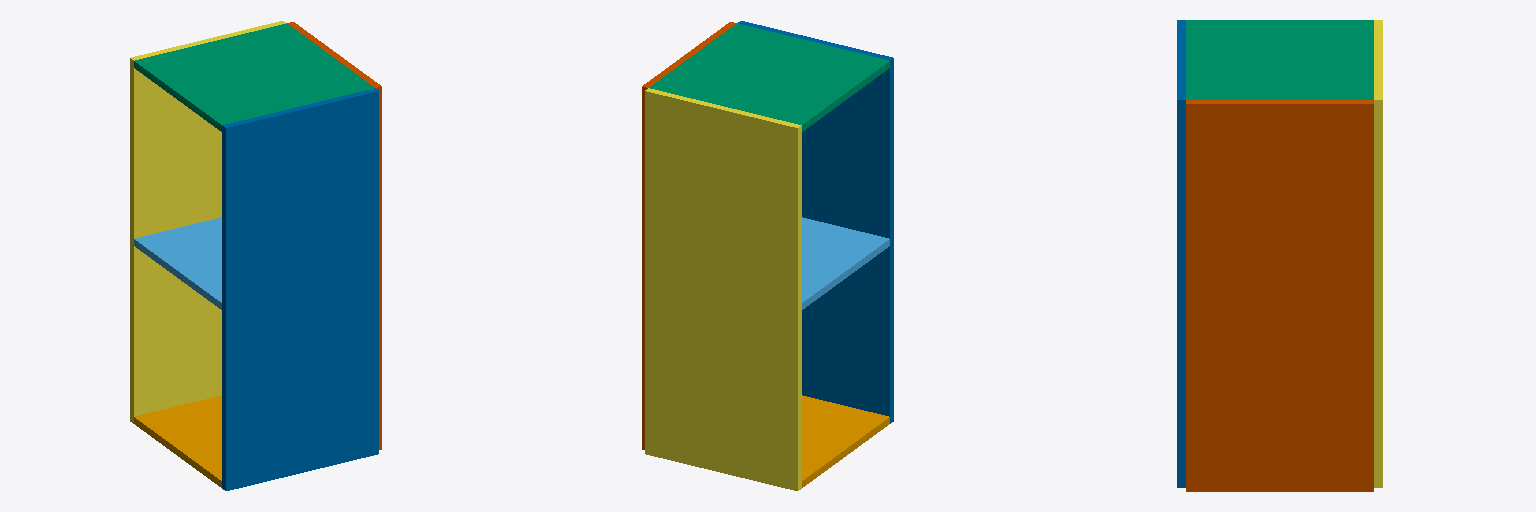
URDF robot description (cabinet_model):
<robot name="cabinet_model">
  <link name="cabinet_bottom_plate">
    <inertial>
      <mass value="20.0" />
      <origin xyz="0 0 -1.0" /> 
      <inertia  ixx="2" ixy="0.0"  ixz="0.0"  iyy="2"  iyz="0.0"  izz="2" />
    </inertial>
    <visual>
      <origin xyz="0 0 0.01" rpy="0 0 0" />
      <geometry>
        <box size="0.45 0.45 0.02"/>
      </geometry>
    </visual>
    <collision>
      <origin xyz="0 0 0.01" rpy="0 0 0" />
      <geometry>
        <box size="0.45 0.45 0.02"/>
      </geometry>
    </collision>
  </link>
  <link name="cabinet_middle_plate">
    <inertial>
      <mass value="1.0" />
      <origin xyz="0 0 0.0" /> 
      <inertia  ixx="0.01" ixy="0.0"  ixz="0.0"  iyy="0.01"  iyz="0.0"  izz="0.01" />
    </inertial>
    <visual>
      <origin xyz="0 0 0.51" rpy="0 0 0" />
      <geometry>
        <box size="0.45 0.45 0.02"/>
      </geometry>
    </visual>
    <collision>
      <origin xyz="0 0 0.51" rpy="0 0 0" />
      <geometry>
        <box size="0.45 0.45 0.02"/>
      </geometry>
    </collision>
  </link>
  <link name="cabinet_top_plate">
    <inertial>
      <mass value="1.0" />
      <origin xyz="0 0 0.0" /> 
      <inertia  ixx="0.01" ixy="0.0"  ixz="0.0"  iyy="0.01"  iyz="0.0"  izz="0.01" />
    </inertial>
    <visual>
      <origin xyz="0 0 1.01" rpy="0 0 0" />
      <geometry>
        <box size="0.45 0.45 0.02"/>
      </geometry>
    </visual>
    <collision>
      <origin xyz="0 0 1.01" rpy="0 0 0" />
      <geometry>
        <box size="0.45 0.45 0.02"/>
      </geometry>
    </collision>
  </link>
  <link name="cabinet_left_plate">
    <inertial>
      <mass value="1.0" />
      <origin xyz="0 0 0.0" /> 
      <inertia  ixx="0.01" ixy="0.0"  ixz="0.0"  iyy="0.01"  iyz="0.0"  izz="0.01" />
    </inertial>
    <visual>
      <origin xyz="0 0.235 0.51" rpy="0 0 0" />
      <geometry>
        <box size="0.45 0.02 1.02"/>
      </geometry>
    </visual>
    <collision>
      <origin xyz="0 0.235 0.51" rpy="0 0 0" />
      <geometry>
        <box size="0.45 0.02 1.02"/>
      </geometry>
    </collision>
  </link>
  <link name="cabinet_right_plate">
    <inertial>
      <mass value="1.0" />
      <origin xyz="0 0 0.0" /> 
      <inertia  ixx="0.01" ixy="0.0"  ixz="0.0"  iyy="0.01"  iyz="0.0"  izz="0.01" />
    </inertial>
    <visual>
      <origin xyz="0 -0.235 0.51" rpy="0 0 0" />
      <geometry>
        <box size="0.45 0.02 1.02"/>
      </geometry>
    </visual>
    <collision>
      <origin xyz="0 -0.235 0.51" rpy="0 0 0" />
      <geometry>
        <box size="0.45 0.02 1.02"/>
      </geometry>
    </collision>
  </link>
  <link name="cabinet_back_plate">
    <inertial>
      <mass value="1.0" />
      <origin xyz="0 0 -5" /> 
      <inertia  ixx="0.01" ixy="0.0"  ixz="0.0"  iyy="0.01"  iyz="0.0"  izz="0.01" />
    </inertial>
    <visual>
      <origin xyz="0.235 0 0.51" rpy="0 0 0" />
      <geometry>
        <box size="0.02 0.45 1.02"/>
      </geometry>
    </visual>
    <collision>
      <origin xyz="0.235 0 0.51" rpy="0 0 0" />
      <geometry>
        <box size="0.02 0.45 1.02"/>
      </geometry>
    </collision>
  </link>
  <joint name="middle_plate" type="fixed">
    <parent link="cabinet_bottom_plate"/>
    <child link="cabinet_middle_plate"/>
    <origin xyz="0 0 0"/>
  </joint>
  <joint name="top_plate" type="fixed">
    <parent link="cabinet_bottom_plate"/>
    <child link="cabinet_top_plate"/>
    <origin xyz="0 0 0"/>
  </joint>
  <joint name="left_plate" type="fixed">
    <parent link="cabinet_bottom_plate"/>
    <child link="cabinet_left_plate"/>
    <origin xyz="0 0 0"/>
  </joint>
  <joint name="right_plate" type="fixed">
    <parent link="cabinet_bottom_plate"/>
    <child link="cabinet_right_plate"/>
    <origin xyz="0 0 0"/>
  </joint>
  <joint name="back_plate" type="fixed">
    <parent link="cabinet_bottom_plate"/>
    <child link="cabinet_back_plate"/>
    <origin xyz="0 0 0"/>
  </joint>
  <gazebo reference="cabinet_bottom_plate">
    <mu1>100.0</mu1>
    <mu2>100.0</mu2>
  </gazebo>
  <gazebo>
    <static>true</static>
  </gazebo>
</robot>

--- Render facts (derived) ---
3 views of the same robot in one strip: view 1: azimuth 30°, elevation 25°; view 2: azimuth 150°, elevation 25°; view 3: azimuth 270°, elevation 25° (orthographic).
Robot: cabinet_model — 6 links, 5 joints (5 fixed); root link cabinet_bottom_plate; default pose: every joint at zero.
Links seen in each view (by area): view 1: cabinet_right_plate, cabinet_left_plate, cabinet_top_plate, cabinet_middle_plate, cabinet_bottom_plate, cabinet_back_plate; view 2: cabinet_left_plate, cabinet_right_plate, cabinet_top_plate, cabinet_middle_plate, cabinet_bottom_plate, cabinet_back_plate; view 3: cabinet_back_plate, cabinet_top_plate, cabinet_left_plate, cabinet_right_plate.
Boxes of the visible links, bbox=[...] form: cabinet_right_plate: bbox=[222, 88, 378, 490]; cabinet_left_plate: bbox=[130, 21, 285, 423]; cabinet_top_plate: bbox=[134, 23, 374, 131]; cabinet_middle_plate: bbox=[134, 217, 221, 309]; cabinet_bottom_plate: bbox=[134, 395, 221, 487]; cabinet_back_plate: bbox=[287, 22, 381, 449]; cabinet_left_plate: bbox=[645, 88, 801, 490]; cabinet_right_plate: bbox=[738, 21, 893, 423]; cabinet_top_plate: bbox=[649, 23, 889, 131]; cabinet_middle_plate: bbox=[802, 217, 889, 309]; cabinet_bottom_plate: bbox=[802, 395, 889, 487]; cabinet_back_plate: bbox=[642, 22, 736, 449]; cabinet_back_plate: bbox=[1186, 100, 1373, 491]; cabinet_top_plate: bbox=[1186, 20, 1373, 99]; cabinet_left_plate: bbox=[1374, 20, 1382, 487]; cabinet_right_plate: bbox=[1177, 20, 1185, 487].
Size in the robot's own frame: 0.47 by 0.49 by 1.02 metres.
Geometry: primitives only (box / cylinder / sphere), no mesh files.